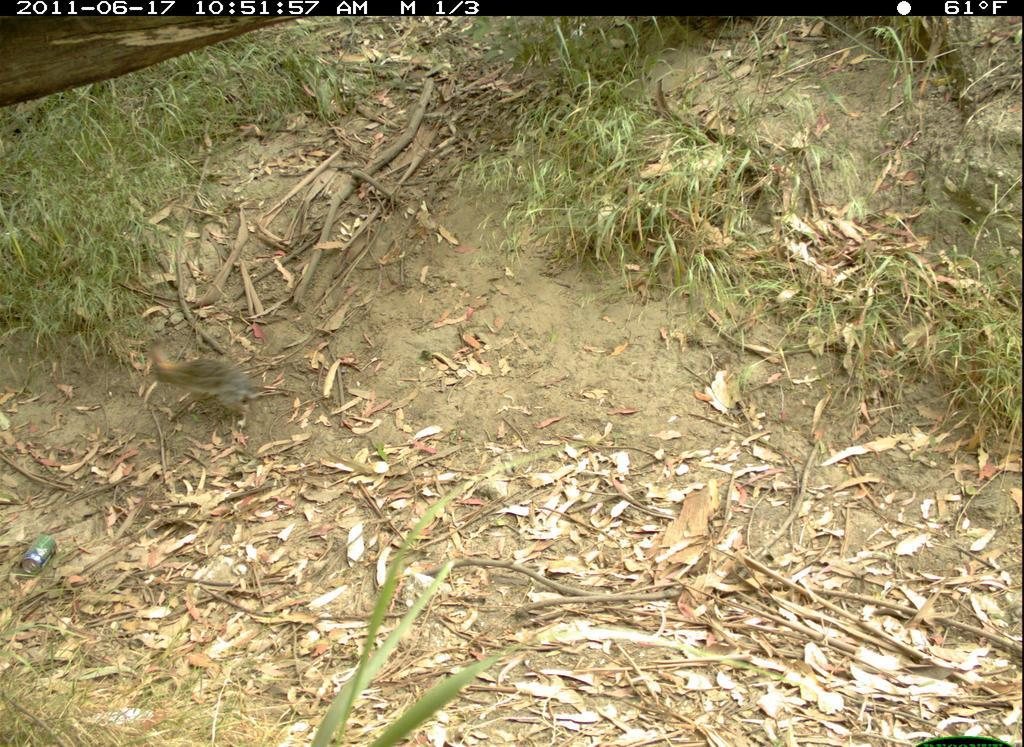rabbit: (140, 332, 282, 441)
